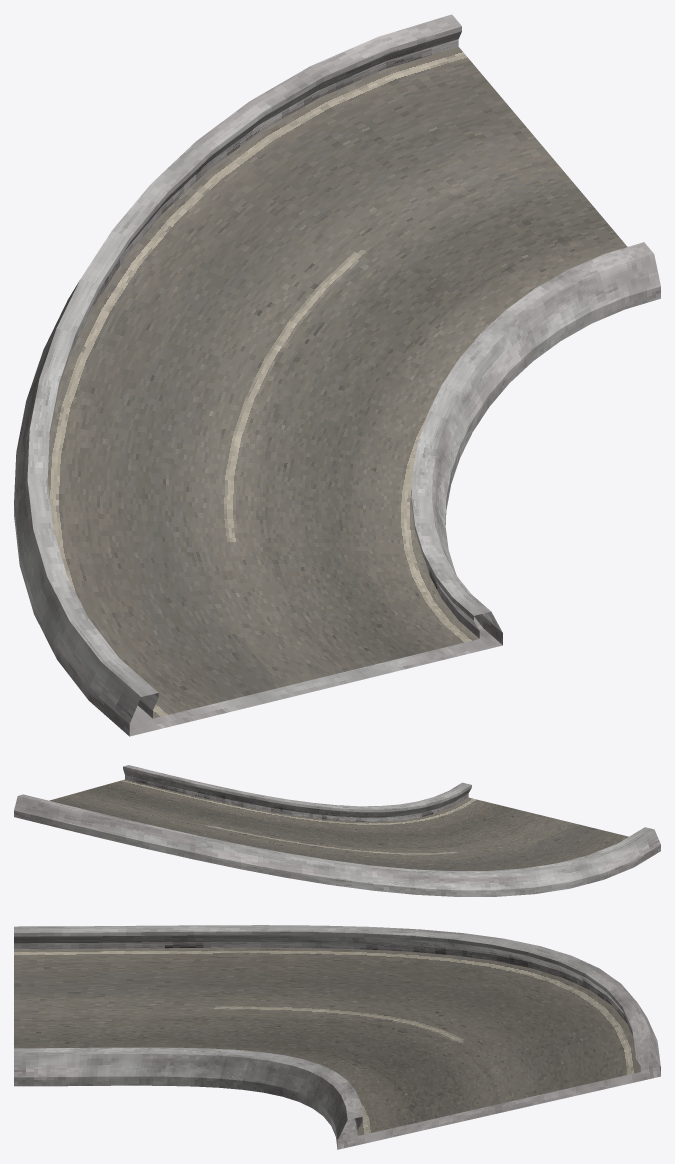
File: turn-right2x2.glb
3 views of the same model, one above another, from view 1: azimuth 30°, elevation 25°; view 2: azimuth 150°, elevation 25°; view 3: azimuth 270°, elevation 25° (orthographic). The views are drawn at different scales.
Visible parts, largest first — view 1: road-Turn-Flat-HalfBankedRight-Up1-Right-Size2; view 2: road-Turn-Flat-HalfBankedRight-Up1-Right-Size2; view 3: road-Turn-Flat-HalfBankedRight-Up1-Right-Size2.
Boxes of the visible parts, x1=… form: road-Turn-Flat-HalfBankedRight-Up1-Right-Size2: x1=14, y1=14, x2=660, y2=736; road-Turn-Flat-HalfBankedRight-Up1-Right-Size2: x1=14, y1=765, x2=660, y2=896; road-Turn-Flat-HalfBankedRight-Up1-Right-Size2: x1=14, y1=925, x2=660, y2=1149.
Bounding box in the file's own units: 2 × 0.5859 × 2.
2 materials, 2 textured.
